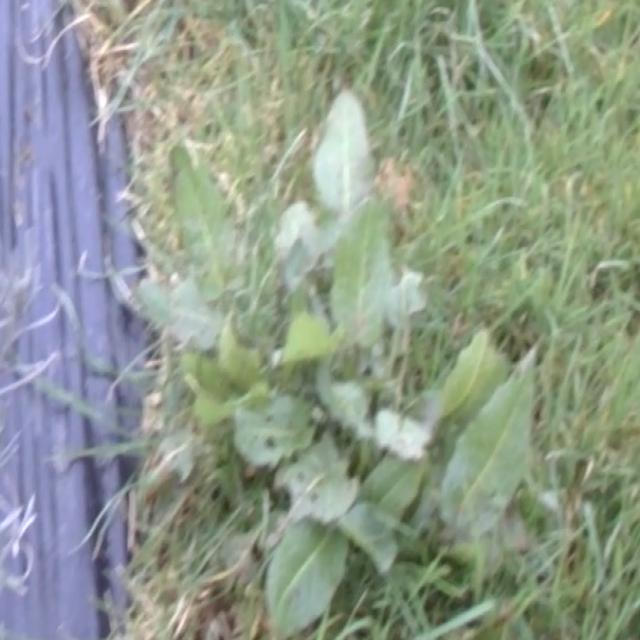organic waste: (139, 87, 545, 579)
